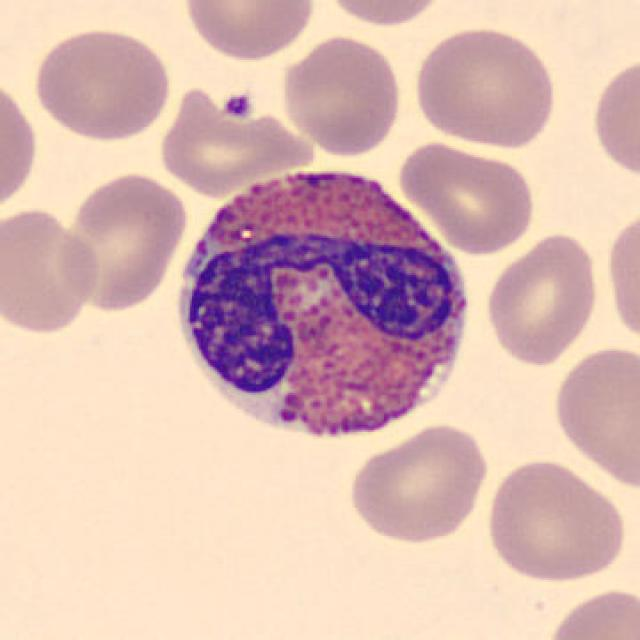Eosinophil: (160, 150, 485, 462)
Platelets: (183, 83, 288, 176), (220, 88, 256, 120)
RBC: (57, 169, 190, 316), (480, 455, 629, 585), (411, 23, 560, 150), (345, 419, 492, 546), (153, 83, 316, 197), (29, 23, 174, 143), (482, 229, 602, 369), (396, 139, 538, 256), (278, 32, 406, 158), (0, 203, 103, 337), (549, 340, 640, 490), (179, 0, 318, 63), (588, 51, 638, 185), (0, 70, 41, 220), (602, 202, 640, 352), (542, 583, 638, 640), (316, 0, 452, 28)
